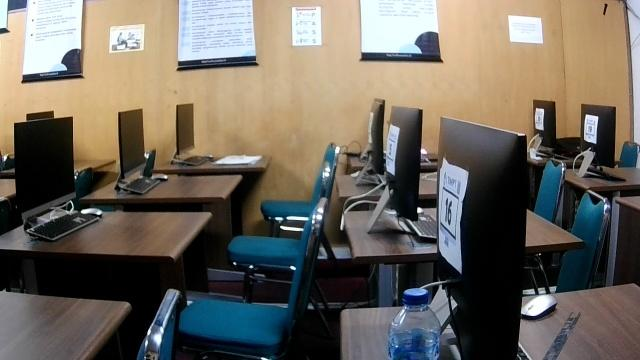AIO PC-Monitor-TV: (436, 114, 529, 359), (366, 105, 423, 233), (13, 115, 76, 228), (111, 106, 145, 190)
Kursi: (176, 197, 327, 358), (226, 160, 330, 271)
